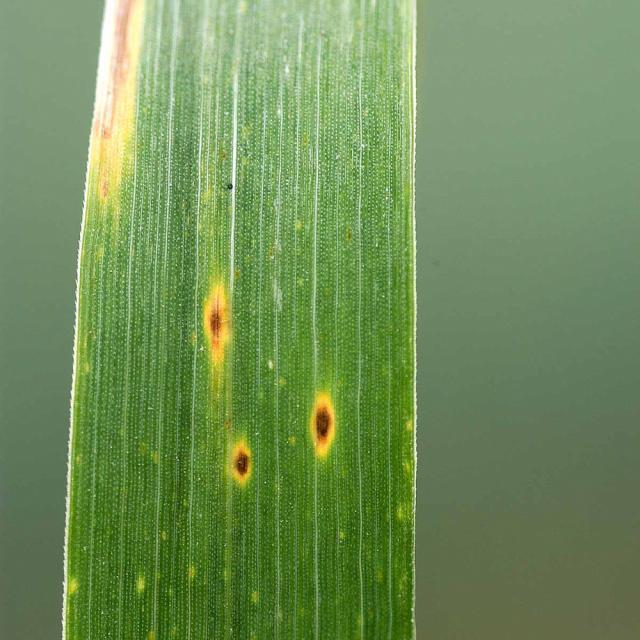wheat-septoria: (90, 0, 147, 192), (197, 285, 234, 362), (305, 392, 345, 459), (227, 436, 256, 490)
